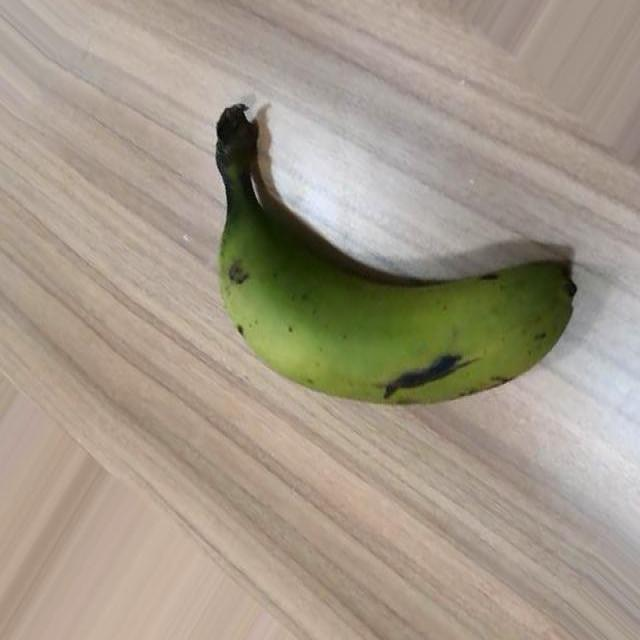Unripe: (213, 103, 582, 405)
